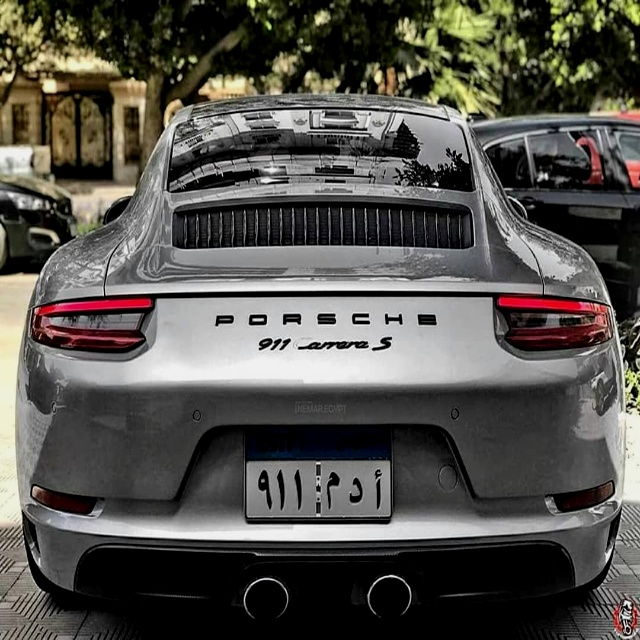License Plate: (238, 420, 399, 526)
